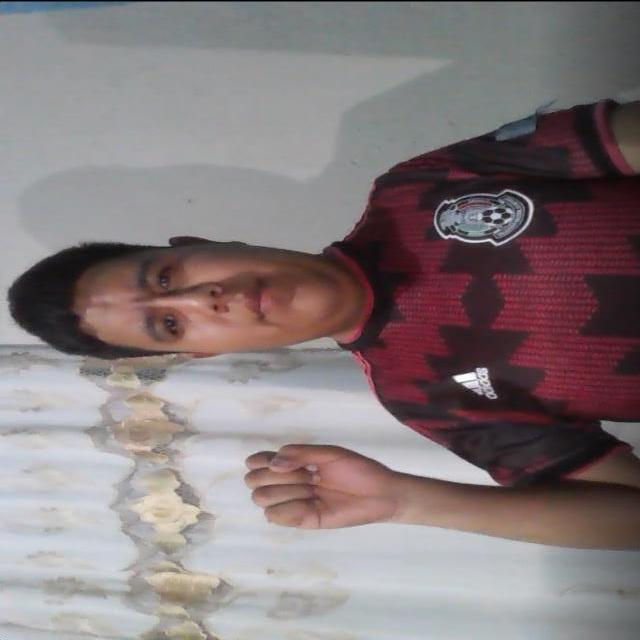S: (241, 436, 407, 538)
